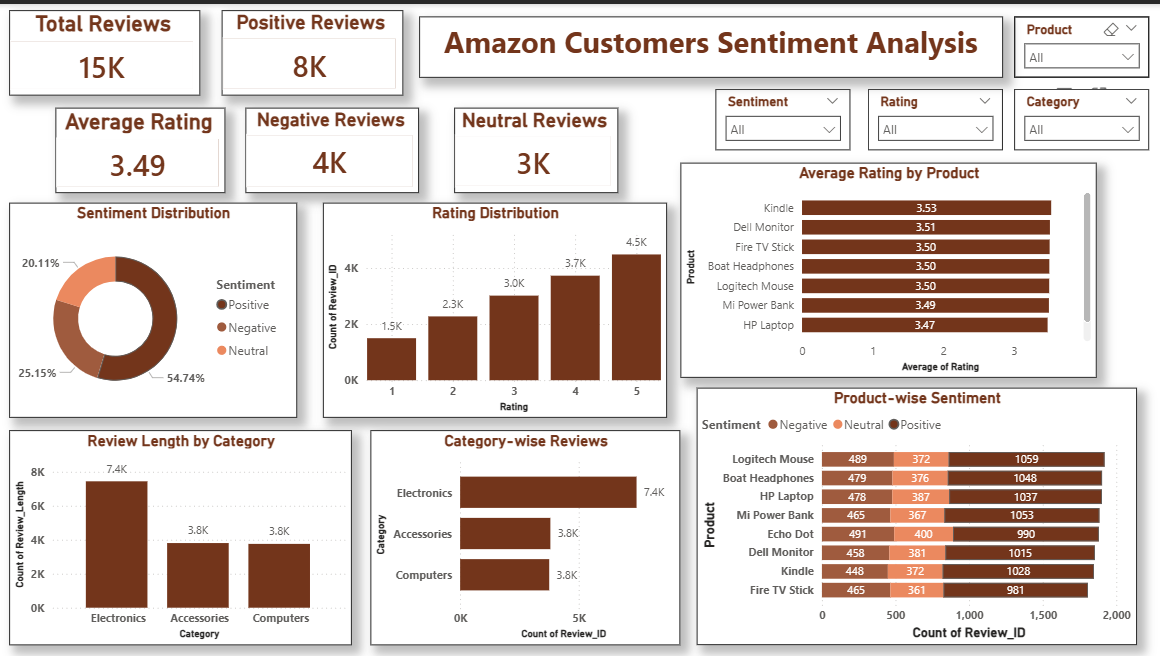

The page's visual inventory and layout, read from the dashboard file:
{"tool":"powerbi","page":{"name":"Page 1","canvas":[1280,720],"ordinal":0},"visuals":[{"type":"cardVisual","title":"Total Reviews","fields":{"Data":["Sheet.Total Reviews"]},"box":[12.3,6.9,209.9,93.3],"z":0},{"type":"cardVisual","title":"Average Rating","fields":{"Data":["Sheet.Average Rating"]},"box":[63.1,113.9,186.6,93.3],"z":1000},{"type":"cardVisual","title":"Positive Reviews","fields":{"Data":["Sheet.Positive Reviews"]},"box":[245.6,6.9,199,93.3],"z":2000},{"type":"cardVisual","title":"Negative Reviews","fields":{"Data":["Sheet.Negative Reviews"]},"box":[271.7,113.9,190.7,93.3],"z":3000},{"type":"cardVisual","title":"Neutral Reviews","fields":{"Data":["Sheet.Neutral Reviews"]},"box":[500.9,113.9,179.8,93.3],"z":4000},{"type":"donutChart","title":"Sentiment Distribution","fields":{"Category":["Sheet.Sentiment"],"Y":["CountNonNull(Sheet.Review_ID)"]},"box":[12.3,218.2,315.6,236],"z":5000},{"type":"clusteredColumnChart","title":"Rating Distribution","fields":{"Category":["Sheet.Rating"],"Y":["CountNonNull(Sheet.Review_ID)"]},"box":[356.8,218.2,377.4,236],"z":6000},{"type":"clusteredColumnChart","title":"Review Length by Category","fields":{"Y":["CountNonNull(Sheet.Review_Length)"],"Category":["Sheet.Category"]},"box":[12.3,467.9,376,236],"z":7000},{"type":"clusteredBarChart","title":"Category-wise Reviews","fields":{"Category":["Sheet.Category"],"Y":["CountNonNull(Sheet.Review_ID)"]},"box":[408.9,467.9,340.3,236],"z":8000},{"type":"clusteredBarChart","title":"Average Rating by Product","fields":{"Category":["Sheet.Product"],"Y":["Avg(Sheet.Rating)"]},"box":[749.2,174.3,456.9,236],"z":9000},{"type":"barChart","title":"Product-wise Sentiment","fields":{"Y":["CountNonNull(Sheet.Review_ID)"],"Category":["Sheet.Product"],"Series":["Sheet.Sentiment"]},"box":[767.1,421.3,483,282.7],"z":10000},{"type":"slicer","fields":{"Values":["Sheet.Product"]},"box":[1115.6,13.7,148.2,67.2],"z":11000},{"type":"slicer","fields":{"Values":["Sheet.Category"]},"box":[1115.6,93.3,148.2,67.2],"z":12000},{"type":"slicer","fields":{"Values":["Sheet.Rating"]},"box":[955.1,93.3,148.2,67.2],"z":13000},{"type":"slicer","fields":{"Values":["Sheet.Sentiment"]},"box":[787.7,93.3,148.2,67.2],"z":14000},{"type":"textbox","box":[462.4,13.7,640.8,67.2],"z":15000}]}

Visuals, with their boxes in screenshot pixels (x1, y1, x2, y2), scaled from the page's 1280x720 canvas onto the 1160x656 screenshot:
"Total Reviews" cardVisual: Rect(11, 6, 201, 91)
"Average Rating" cardVisual: Rect(57, 104, 226, 189)
"Positive Reviews" cardVisual: Rect(223, 6, 403, 91)
"Negative Reviews" cardVisual: Rect(246, 104, 419, 189)
"Neutral Reviews" cardVisual: Rect(454, 104, 617, 189)
"Sentiment Distribution" donutChart: Rect(11, 199, 297, 414)
"Rating Distribution" clusteredColumnChart: Rect(323, 199, 665, 414)
"Review Length by Category" clusteredColumnChart: Rect(11, 426, 352, 641)
"Category-wise Reviews" clusteredBarChart: Rect(371, 426, 679, 641)
"Average Rating by Product" clusteredBarChart: Rect(679, 159, 1093, 374)
"Product-wise Sentiment" barChart: Rect(695, 384, 1133, 641)
slicer - Sheet.Product: Rect(1011, 12, 1145, 74)
slicer - Sheet.Category: Rect(1011, 85, 1145, 146)
slicer - Sheet.Rating: Rect(866, 85, 1000, 146)
slicer - Sheet.Sentiment: Rect(714, 85, 848, 146)
textbox: Rect(419, 12, 1000, 74)
